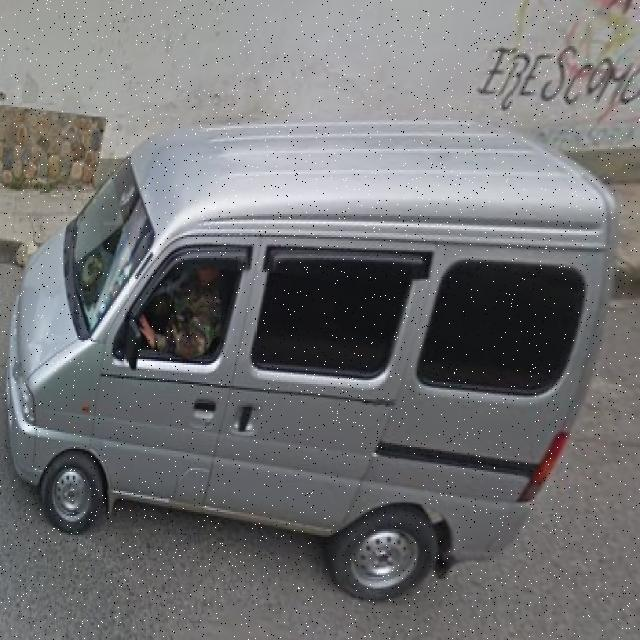cars: (22, 48, 596, 594)
